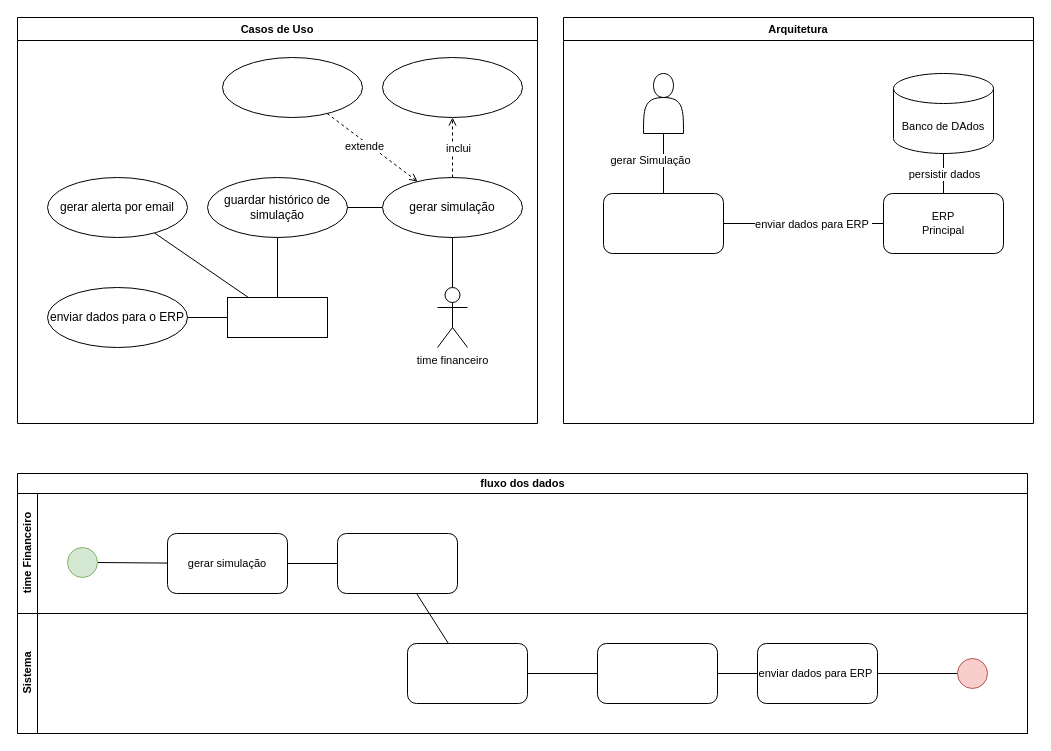
Some shapes in this 1051 by 751 pixel diagram are drawn without their labels. The centre of each missing label's shape, as x and y in pixels:
<<sistema>>: the point at 277,317
alterar valores da simulação: the point at 292,87
gerar alertas: the point at 657,673
inserir dados: the point at 397,563
inserir informações de gastos para simulaçãp: the point at 452,87
salvar no histórico: the point at 467,673
Sistema Salvar histórico: the point at 663,223
